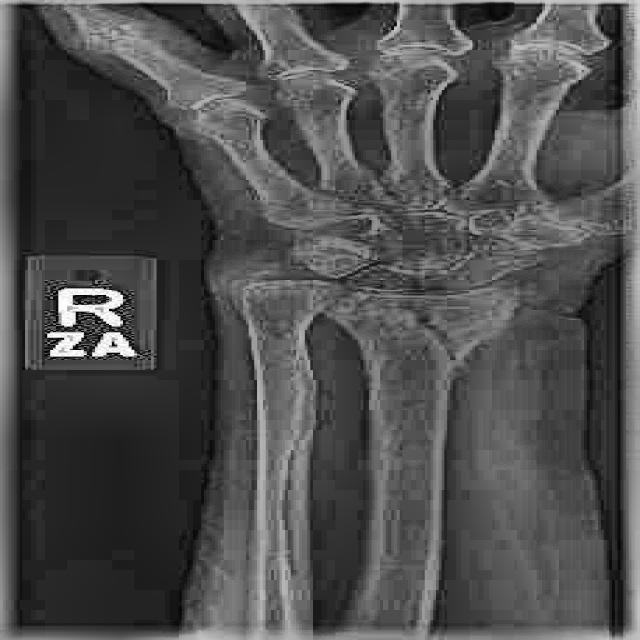wrist positive: (288, 286, 545, 386)
